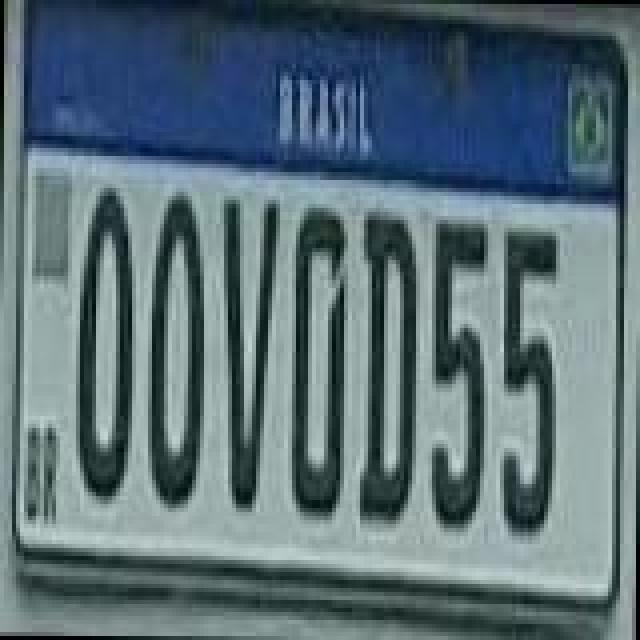5: (494, 220, 558, 540), (428, 212, 492, 528)
D: (288, 204, 352, 524), (360, 210, 424, 530)
O: (144, 186, 208, 514), (72, 180, 136, 500)
V: (216, 190, 280, 510)
